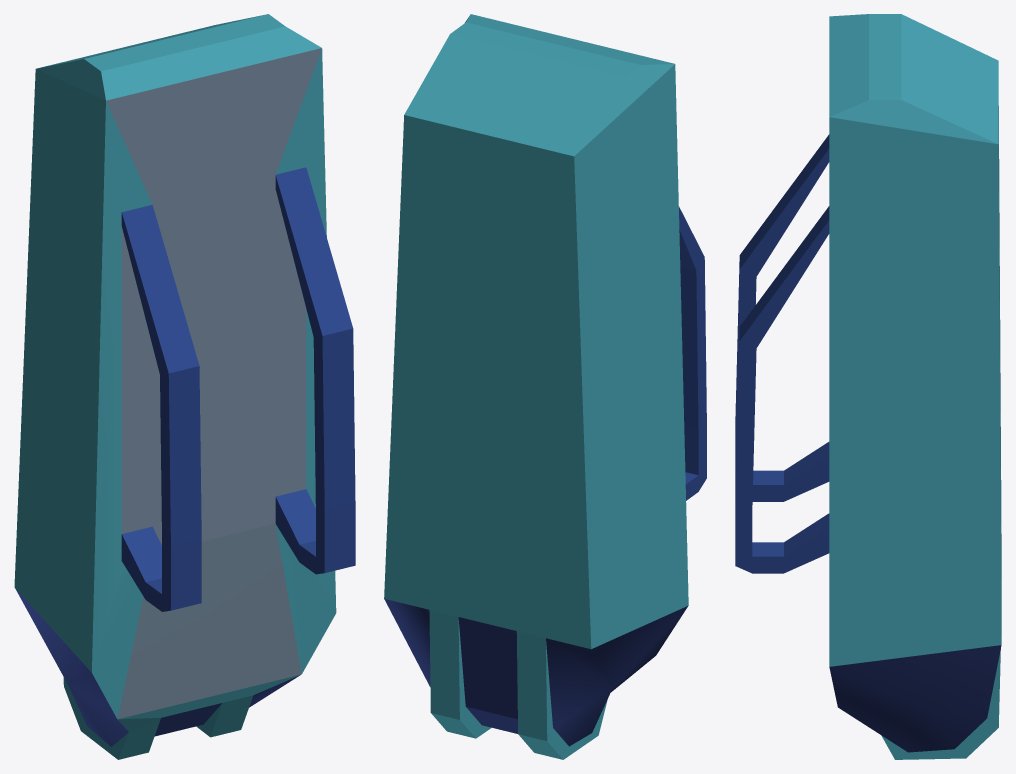
File: hiking_bag.fbx
3 renders of one model, left to right at view 1: azimuth 30°, elevation 25°; view 2: azimuth 150°, elevation 25°; view 3: azimuth 270°, elevation 25°, orthographic. The views are drawn at different scales.
Visible parts, largest first — view 1: hiking_bag; view 2: hiking_bag; view 3: hiking_bag.
Boxes of the visible parts, x1,y1,x2,y2 form: hiking_bag: (14, 14, 355, 759); hiking_bag: (384, 14, 706, 759); hiking_bag: (735, 14, 1001, 759).
Size of the model in its own units: 35.57 by 98.17 by 35.11.
